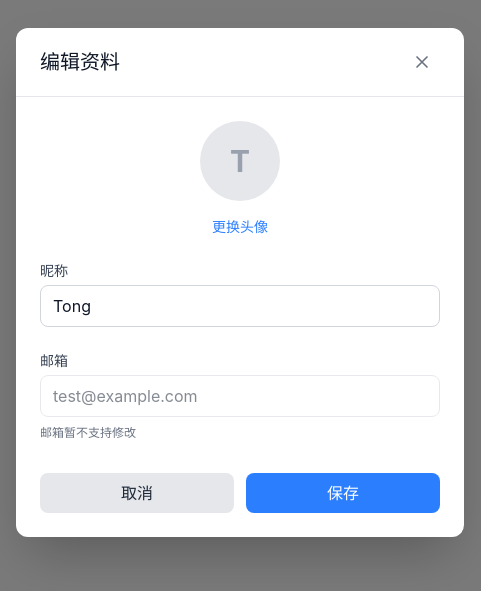
it: ProfileEditDialog › 校验昵称必填
This screenshot has width=481, height=591.
Clear the field with placeholder "请输入昵称" at (240, 306), box top-left (40, 284), bottom-right (440, 326)
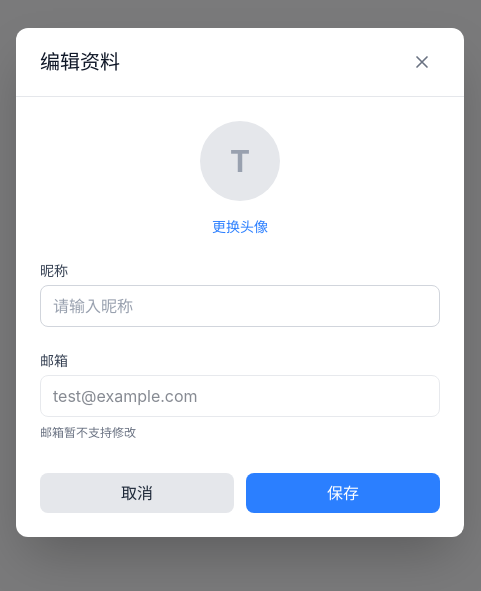
Click the button "保存" at (343, 492), box top-left (246, 472), bottom-right (440, 512)
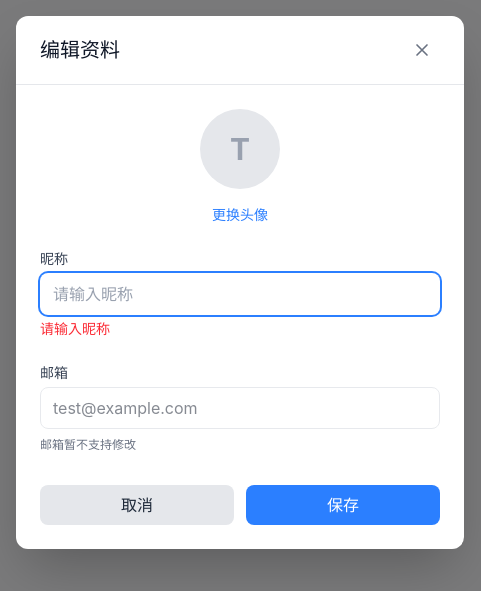
expect the text "请输入昵称" is shown: met, box top-left (40, 320), bottom-right (110, 336)
